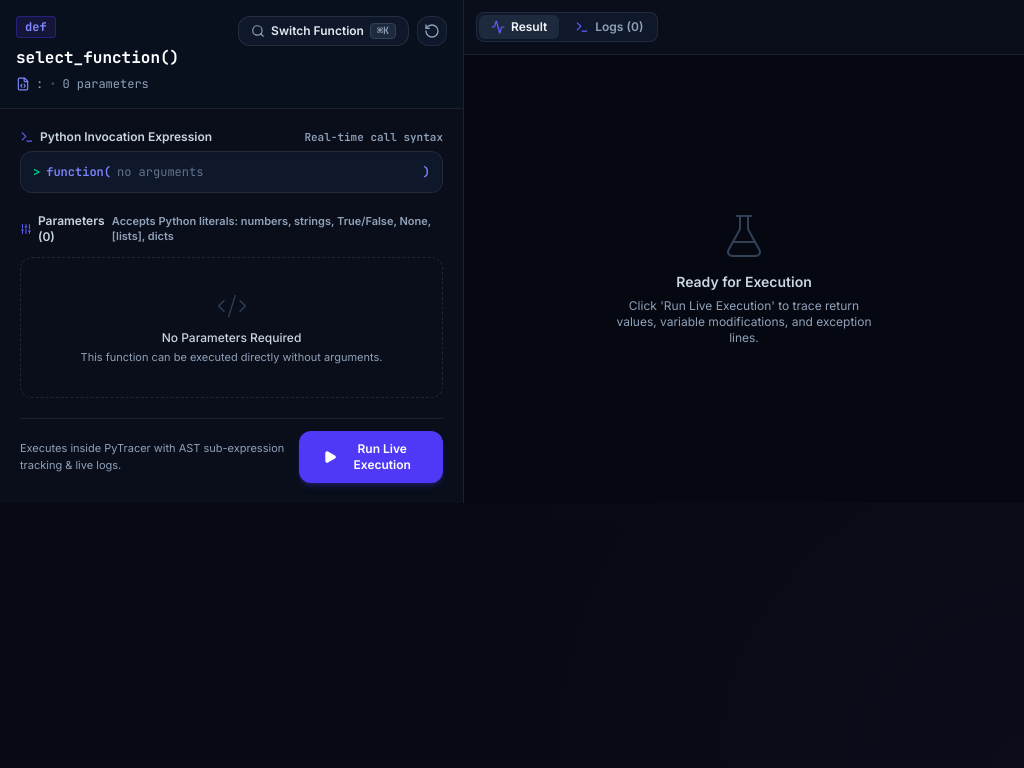
Test: PlaygroundPage Component › supports opening and closing function switcher modal
Expected: the text "Switch Function" is shown, [271, 23, 364, 39]
Click the button "Switch Function ⌘K".
click(324, 31)  # box [238, 16, 409, 46]
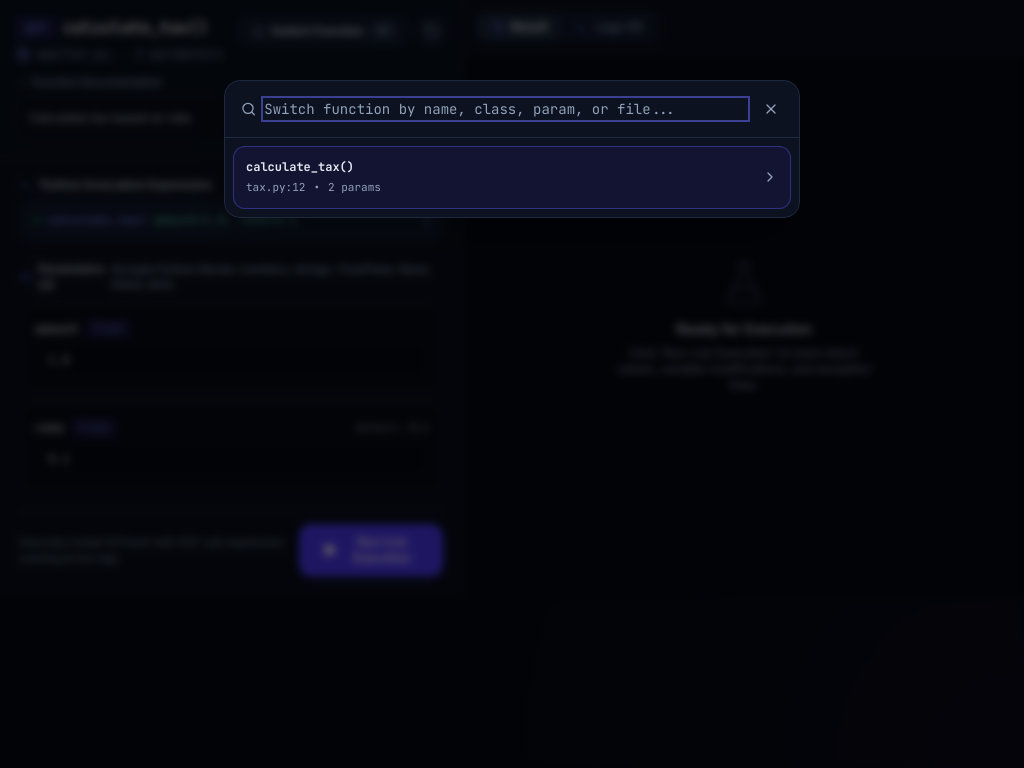
Result: the field with placeholder "Switch function by name, class, param, or file..." is shown at [264, 99, 747, 119]
